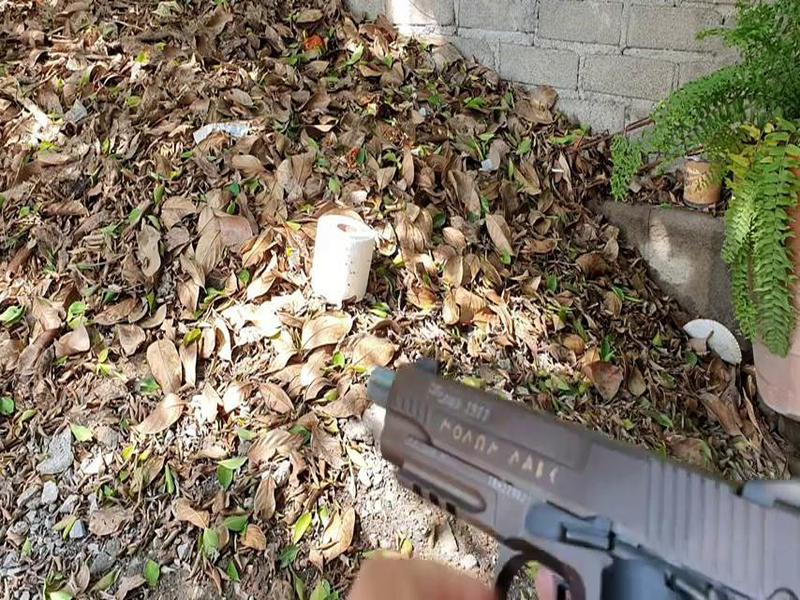Pistola: (343, 321, 800, 599)
